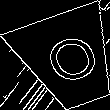O_S: (35, 28, 103, 92)
